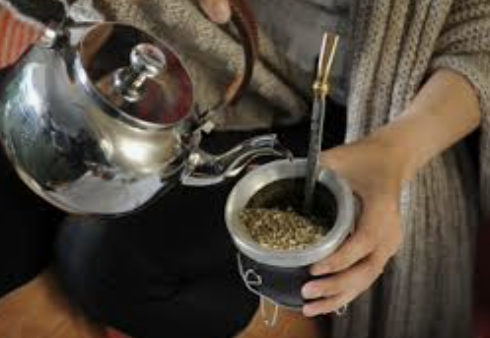calabaza: (223, 155, 352, 324)
mate: (224, 153, 353, 329)
